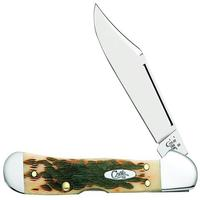knife: (86, 2, 192, 157)
